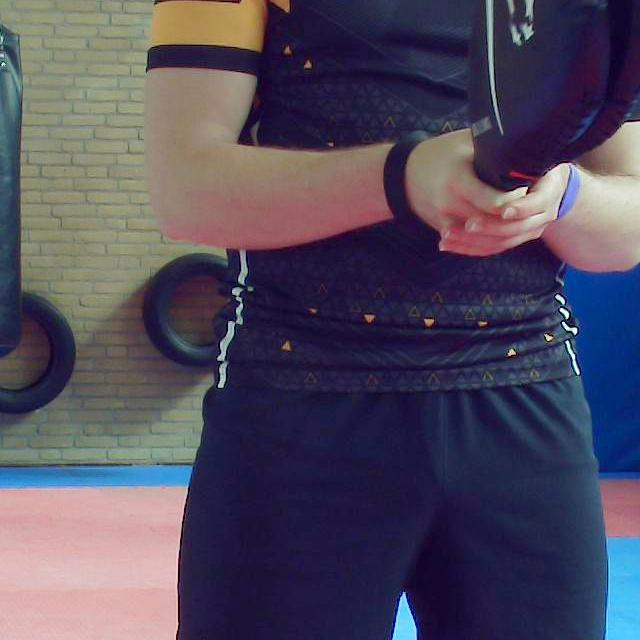paddle: (468, 0, 640, 184)
